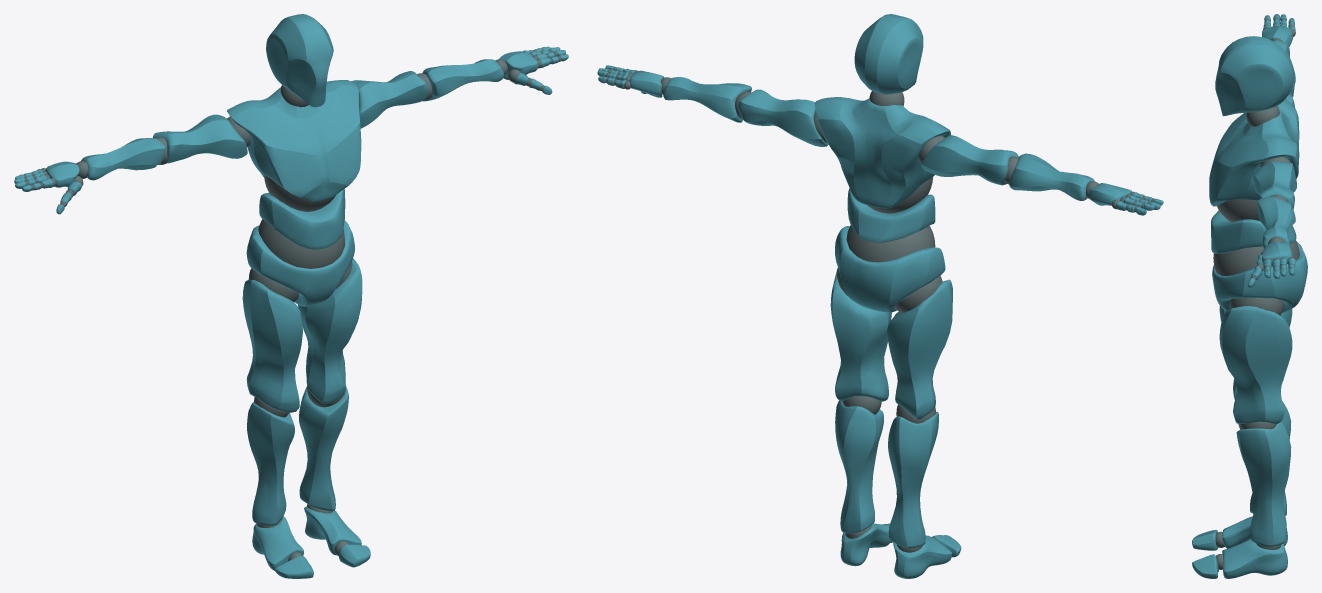
File: Ybot.glb
3 views of the same model, side by side, from view 1: azimuth 30°, elevation 25°; view 2: azimuth 150°, elevation 25°; view 3: azimuth 270°, elevation 25° (orthographic). The views are drawn at different scales.
Parts seen in each view (by area): view 1: Alpha_Surface, Alpha_Joints; view 2: Alpha_Surface, Alpha_Joints; view 3: Alpha_Surface, Alpha_Joints.
Part boxes in pixels (<box>): Alpha_Surface: <box>14,14,568,578</box>; Alpha_Joints: <box>23,48,561,560</box>; Alpha_Surface: <box>597,14,1163,578</box>; Alpha_Joints: <box>605,67,1154,552</box>; Alpha_Surface: <box>1192,14,1307,578</box>; Alpha_Joints: <box>1213,17,1299,569</box>.
Size of the model in its own units: 1.95 by 1.8 by 0.3643.
